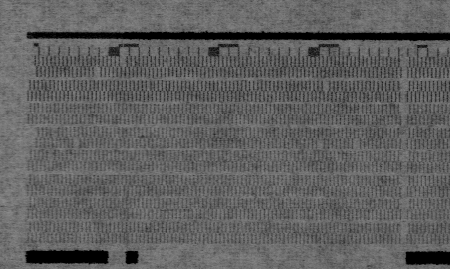Broken hole: (26, 126, 41, 150), (26, 54, 39, 80), (117, 54, 130, 69), (320, 78, 333, 92), (90, 67, 105, 79), (350, 138, 363, 151), (71, 137, 83, 150), (315, 138, 327, 151)
